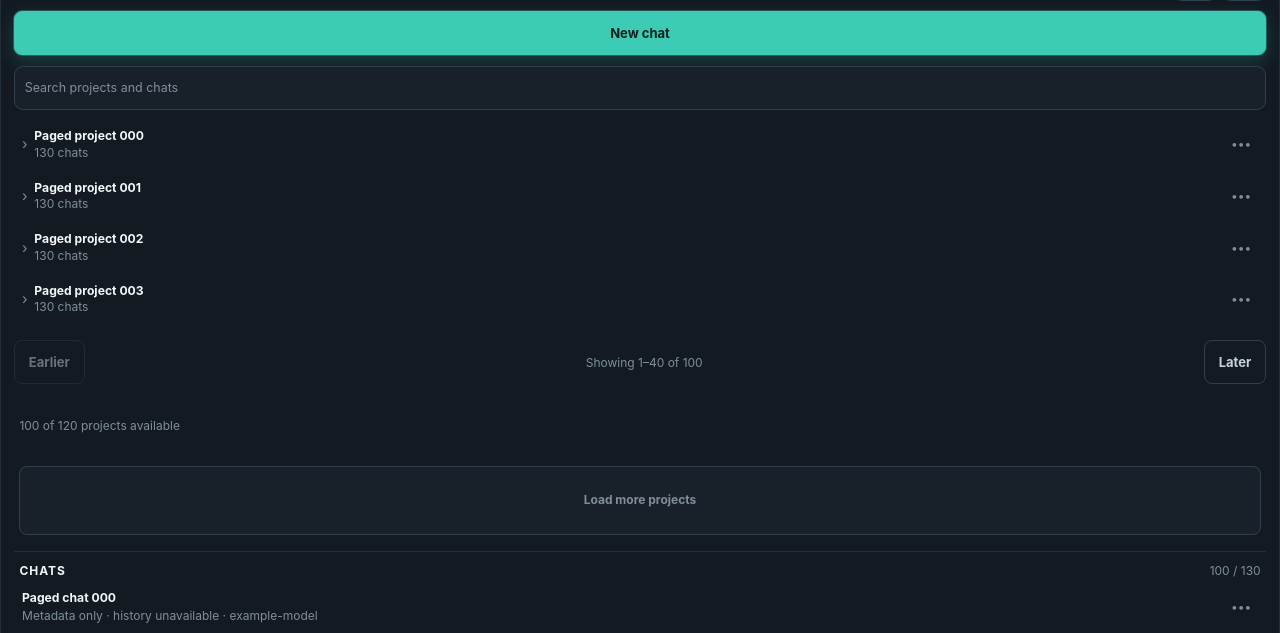
Scenario: AgentCatalogRail › loads snapshot-bound project and chat continuations without unbounding rendered rows
Expected: the text "100 of 120 projects available" is shown, [19, 418, 180, 433]
Click the button "Load more projects".
click(640, 500)  # box [19, 466, 1261, 535]
(page scrolled)
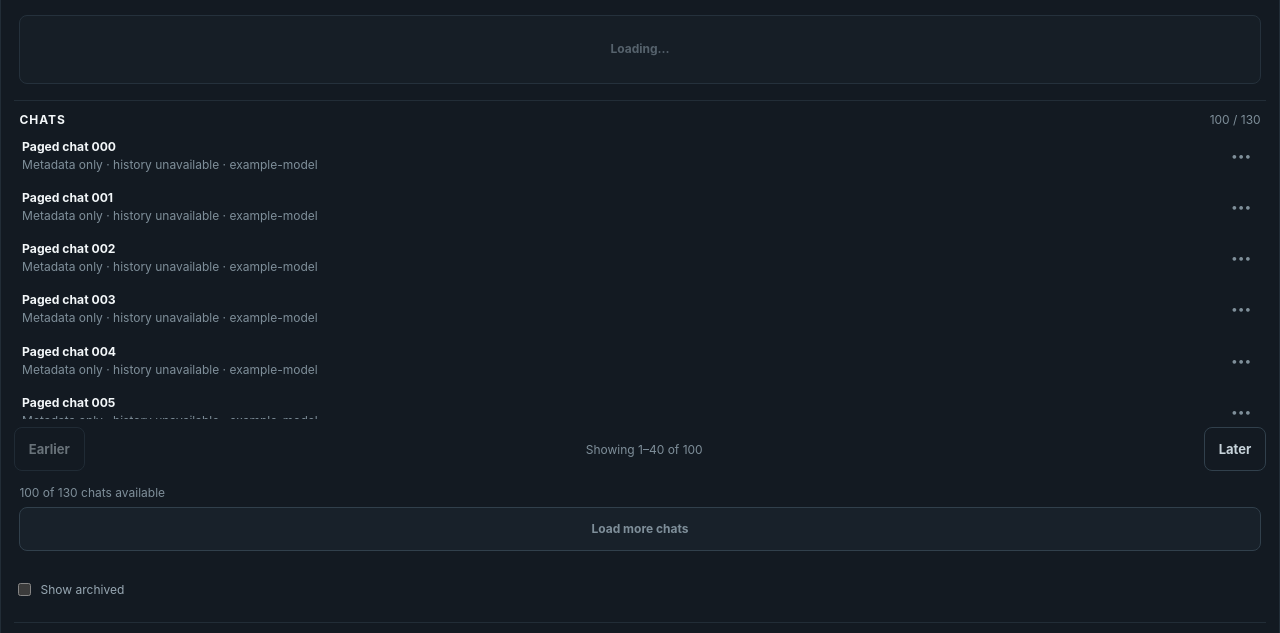
Click the button "Load more chats".
click(640, 529)  # box [19, 507, 1261, 551]
(page scrolled)
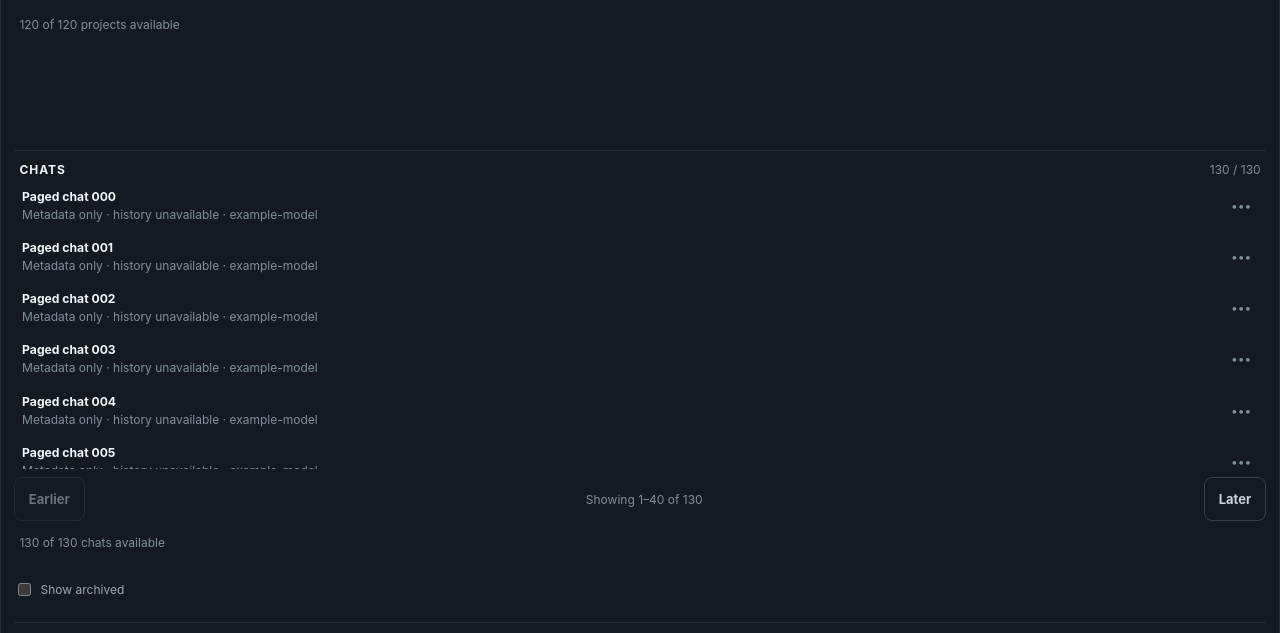
Now the text "120 of 120 projects available" is shown, box [19, 17, 180, 32]
Now the text "130 of 130 chats available" is shown, box [19, 535, 165, 550]
